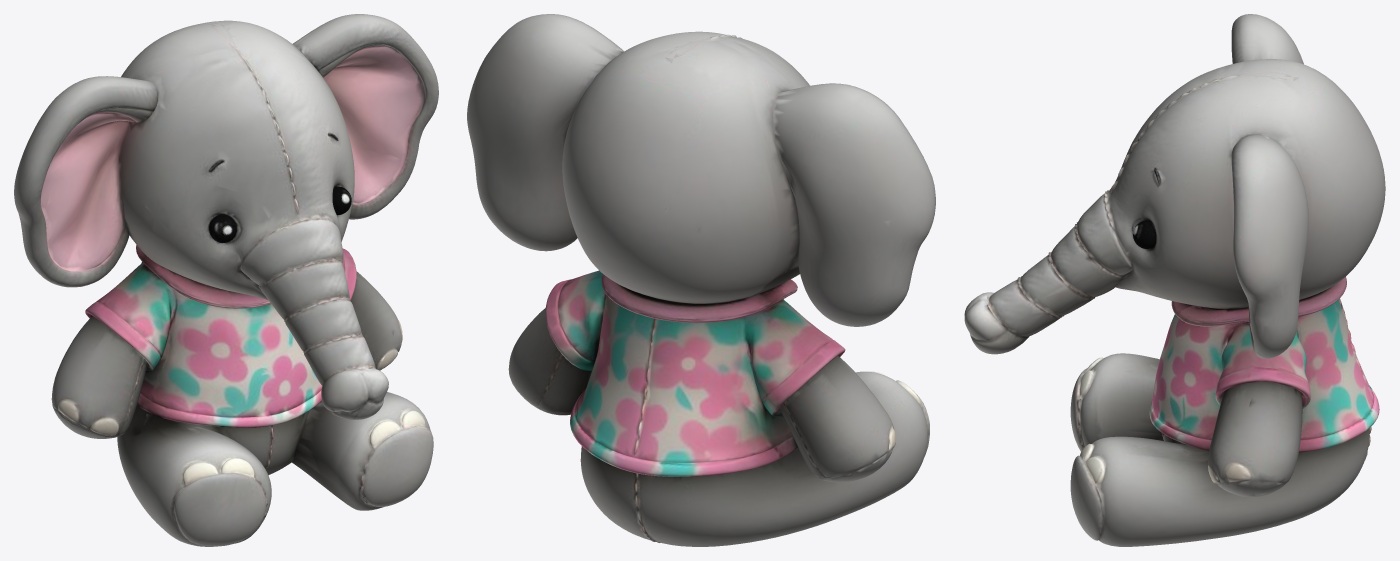
Rendered from elephant.glb.
3 renders of one model, left to right at view 1: azimuth 30°, elevation 25°; view 2: azimuth 150°, elevation 25°; view 3: azimuth 270°, elevation 25°, orthographic. The views are drawn at different scales.
Parts seen in each view (by area): view 1: node_0; view 2: node_0; view 3: node_0.
Part boxes in pixels (x1,y1,x2,y2): node_0: [14, 14, 438, 546]; node_0: [467, 14, 935, 546]; node_0: [964, 14, 1385, 546].
Size of the model in its own units: 0.9645 by 0.963 by 0.855.
Materials: 1 (1 with a texture image).
